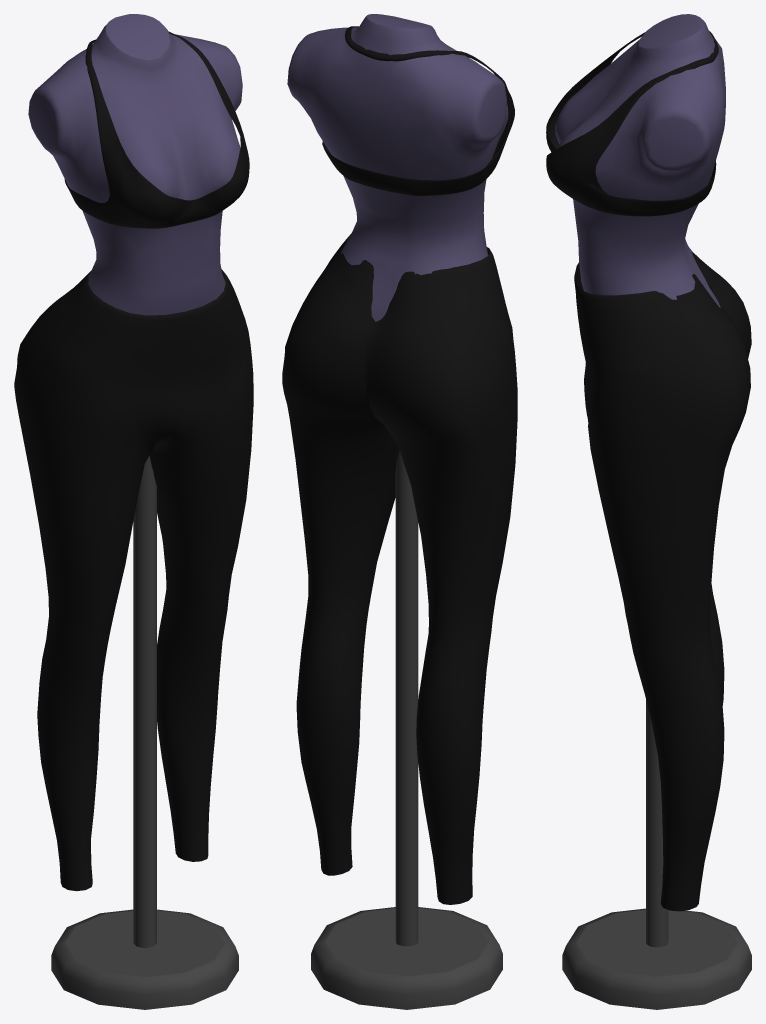
File: Dress_3.fbx
3 views of the same model, side by side, from view 1: azimuth 30°, elevation 25°; view 2: azimuth 150°, elevation 25°; view 3: azimuth 270°, elevation 25° (orthographic). The views are drawn at different scales.
Parts seen in each view (by area): view 1: dress_2, dummy_1; view 2: dress_2, dummy_1; view 3: dress_2, dummy_1.
Part boxes in pixels (<box>): dress_2: <box>14,31,253,891</box>; dummy_1: <box>28,14,242,1009</box>; dress_2: <box>282,26,517,904</box>; dummy_1: <box>287,14,508,1009</box>; dress_2: <box>546,31,751,911</box>; dummy_1: <box>555,14,751,1009</box>.
Bounding box in the file's own units: 0.3724 × 1.66 × 0.3273.
